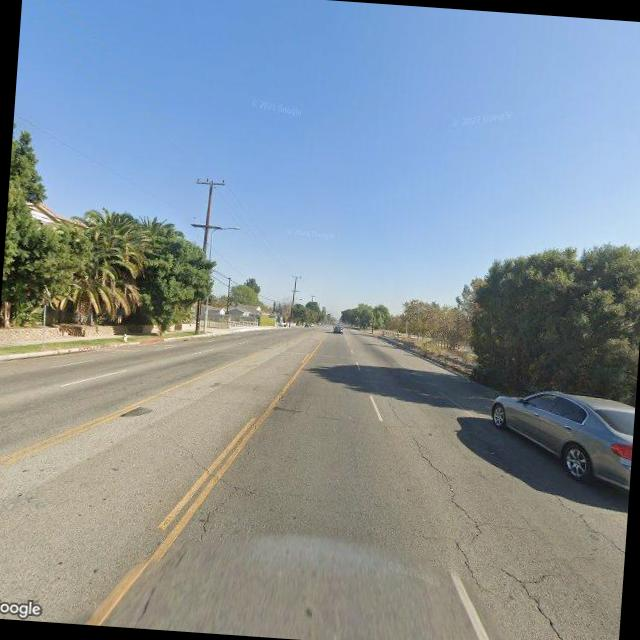crack: (162, 442, 256, 544)
pothole: (389, 429, 582, 640), (396, 431, 494, 597), (543, 488, 627, 578), (489, 565, 581, 640), (192, 475, 242, 544), (384, 392, 405, 424)
